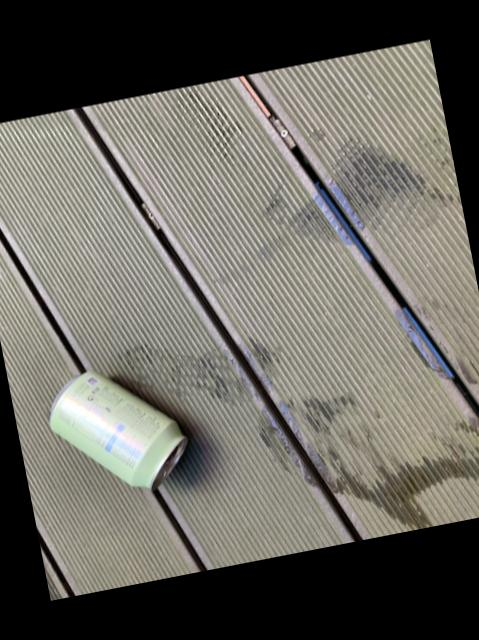metal: (47, 371, 184, 488)
